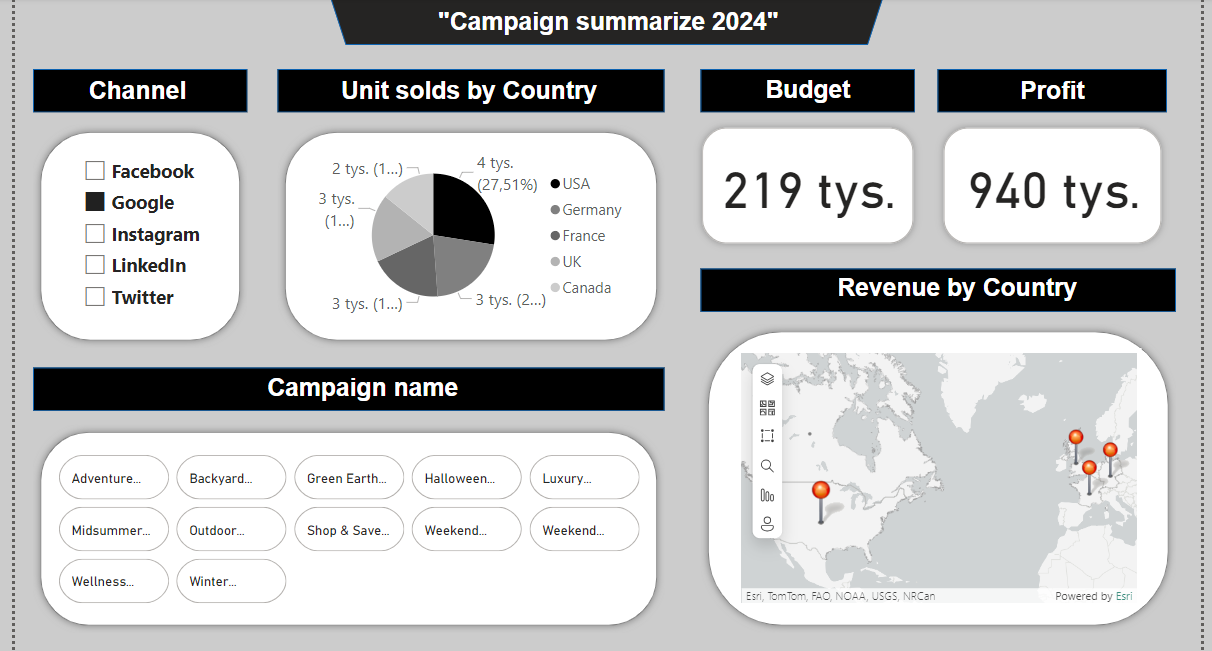

Layout of this report page (visuals, bound fields, positions):
{"tool":"powerbi","page":{"name":"Campaign summary","canvas":[1280,720],"ordinal":0},"visuals":[{"type":"cardVisual","fields":{"Data":["Sum(campaigns_data.Budget)"]},"box":[725.4,124.7,260.7,157.1],"z":0},{"type":"cardVisual","fields":{"Data":["Sum(sales_data.Profit)"]},"box":[986.1,124.7,267.2,157.1],"z":1000},{"type":"shape","box":[740,77.7,231.5,47],"z":2000},{"type":"shape","box":[995.8,77.7,247.7,47],"z":3000},{"type":"textbox","box":[799.9,79.3,111.7,45.3],"z":4000},{"type":"textbox","box":[995.8,81,247.7,45.3],"z":5000},{"type":"shape","box":[283.4,77.7,417.8,47],"z":6000},{"type":"shape","box":[19.4,399.9,681.7,47],"z":7000},{"type":"shape","box":[19.4,77.7,231.5,47],"z":8000},{"type":"textbox","box":[267.2,401.6,228.3,45.3],"z":9000},{"type":"textbox","box":[74.5,81,124.7,45.3],"z":10000},{"type":"shape","box":[740,293.1,513.3,47],"z":11000},{"type":"textbox","box":[882.5,293.1,309.3,47],"z":12000},{"type":"textbox","box":[346.5,81,320.6,45.3],"z":13000},{"type":"shape","box":[340,0,597.5,51.8],"z":14000},{"type":"textbox","box":[387,6.5,506.8,45.3],"z":15000},{"type":"shape","box":[19.4,137.6,231.5,241.3],"z":16000},{"type":"slicer","fields":{"Values":["campaigns_data.Channel"]},"box":[63.1,165.2,147.3,187.8],"z":17000},{"type":"shape","box":[740,353,513.3,333.6],"z":18000},{"type":"esriVisual","fields":{"Location":["sales_data.Country"],"Size":["Sum(sales_data.Revenue)"]},"box":[778.8,378.9,437.2,280.1],"z":19000},{"type":"shape","box":[19.4,461.5,681.7,225.1],"z":20000},{"type":"advancedSlicerVisual","fields":{"Values":["campaigns_data.Campaign_Name"]},"box":[42.1,489,638,170],"z":21000},{"type":"shape","box":[283.4,137.6,417.8,241.3],"z":22000},{"type":"pieChart","fields":{"Category":["sales_data.Country"],"Y":["Sum(sales_data.Units_Sold)"]},"box":[320.6,160.3,348.1,192.7],"z":23000}]}

Visuals, with their boxes on the page's 1280x720 design canvas (x1, y1, x2, y2). These are canvas units, not pixel positions in the 1212x651 screenshot, which may show the page scaled, cropped or inside an application window:
cardVisual - Sum(campaigns_data.Budget): 725/125/986/282
cardVisual - Sum(sales_data.Profit): 986/125/1253/282
shape: 740/78/972/125
shape: 996/78/1244/125
textbox: 800/79/912/125
textbox: 996/81/1244/126
shape: 283/78/701/125
shape: 19/400/701/447
shape: 19/78/251/125
textbox: 267/402/496/447
textbox: 74/81/199/126
shape: 740/293/1253/340
textbox: 882/293/1192/340
textbox: 346/81/667/126
shape: 340/0/938/52
textbox: 387/6/894/52
shape: 19/138/251/379
slicer - campaigns_data.Channel: 63/165/210/353
shape: 740/353/1253/687
esriVisual - sales_data.Country x Sum(sales_data.Revenue): 779/379/1216/659
shape: 19/462/701/687
advancedSlicerVisual - campaigns_data.Campaign_Name: 42/489/680/659
shape: 283/138/701/379
pieChart - sales_data.Country x Sum(sales_data.Units_Sold): 321/160/669/353
